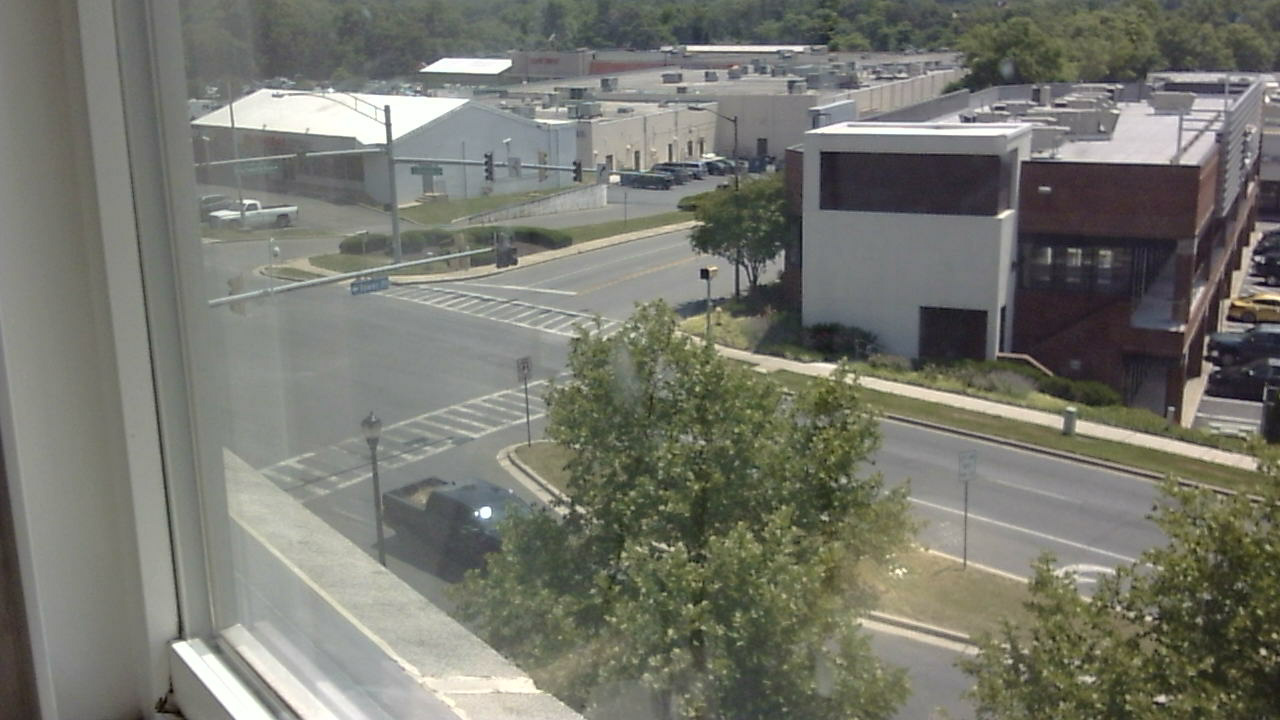Truck: (378, 450, 559, 577)
